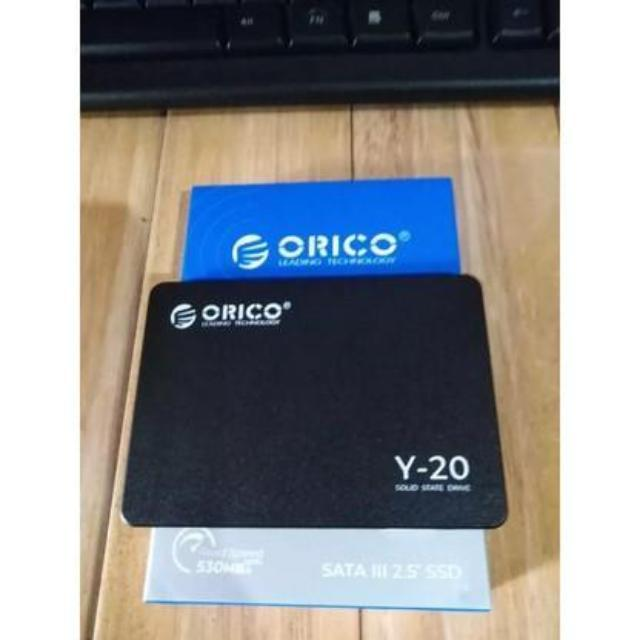DISK: (122, 277, 510, 528)
